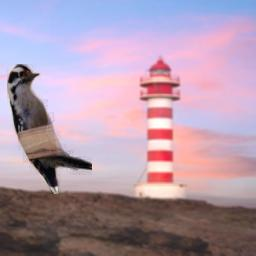Woodpecker: (7, 64, 92, 194)
